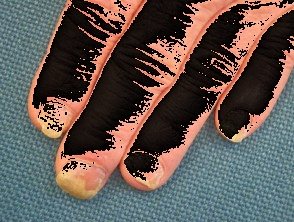Nail_psoriasis: (44, 145, 114, 211), (20, 86, 83, 153), (115, 140, 173, 197), (217, 111, 252, 145)
